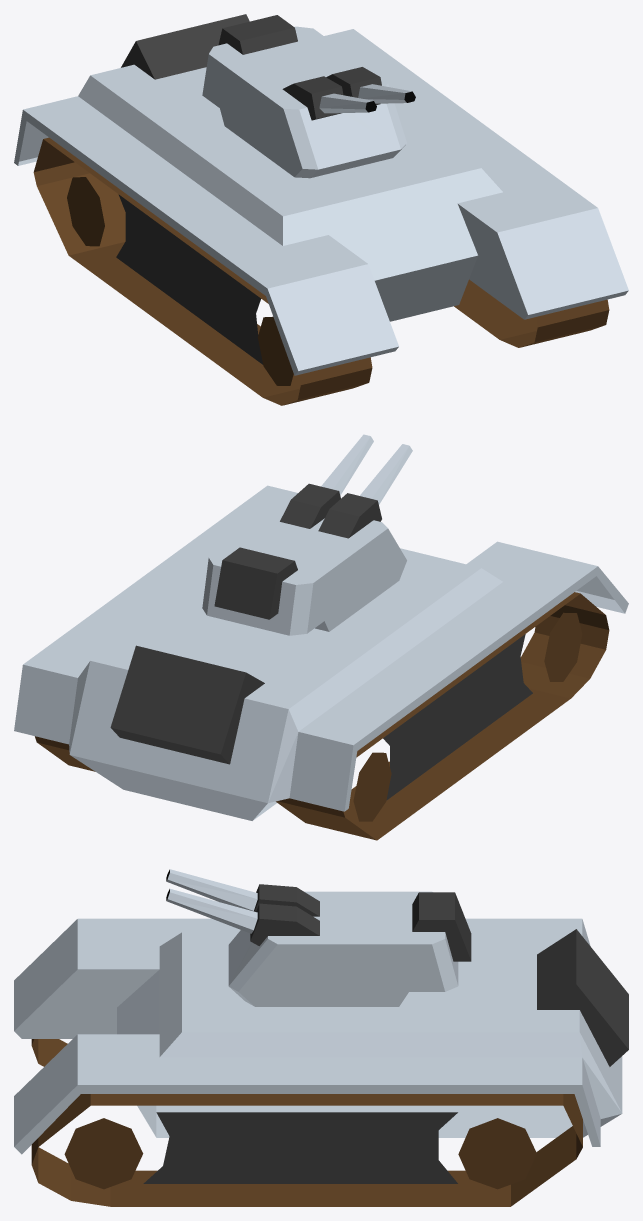
Rendered from player.FBX.
3 views of the same model, one above another, from view 1: azimuth 30°, elevation 25°; view 2: azimuth 150°, elevation 25°; view 3: azimuth 270°, elevation 25° (orthographic). The views are drawn at different scales.
Parts seen in each view (by area): view 1: VIFS002, VIFS001, VIFS005, VIFS003, VIFS004; view 2: VIFS002, VIFS003, VIFS001, VIFS005, VIFS004; view 3: VIFS002, VIFS001, VIFS003, VIFS005, VIFS004.
Part boxes in pixels (bbox=[...]): VIFS002: bbox=[14, 29, 628, 375]; VIFS001: bbox=[33, 137, 609, 405]; VIFS005: bbox=[202, 26, 411, 178]; VIFS003: bbox=[116, 14, 262, 364]; VIFS004: bbox=[218, 15, 381, 120]; VIFS002: bbox=[14, 485, 628, 820]; VIFS003: bbox=[110, 634, 532, 800]; VIFS001: bbox=[35, 592, 609, 840]; VIFS005: bbox=[202, 434, 412, 635]; VIFS004: bbox=[214, 483, 381, 619]; VIFS002: bbox=[14, 918, 622, 1154]; VIFS001: bbox=[31, 1039, 582, 1206]; VIFS003: bbox=[143, 929, 628, 1183]; VIFS005: bbox=[166, 869, 458, 1006]; VIFS004: bbox=[250, 884, 471, 961].
Bounding box in the file's own units: 1.21 × 0.8431 × 1.89.
